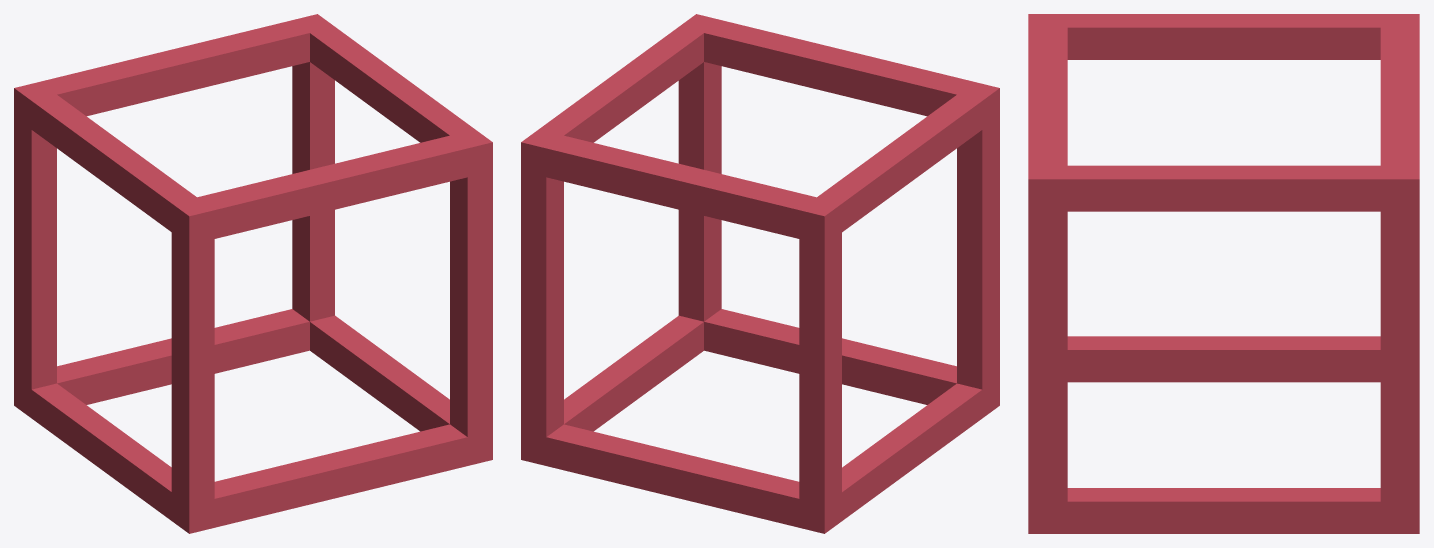
File: cubo-arestas.glb
3 renders of one model, left to right at view 1: azimuth 30°, elevation 25°; view 2: azimuth 150°, elevation 25°; view 3: azimuth 270°, elevation 25°, orthographic. The views are drawn at different scales.
Visible parts, largest first — view 1: Mesh_Mesh_head_geo.001_lambert2SG.001; view 2: Mesh_Mesh_head_geo.001_lambert2SG.001; view 3: Mesh_Mesh_head_geo.001_lambert2SG.001.
Part boxes in pixels (left/top/right/bottom): Mesh_Mesh_head_geo.001_lambert2SG.001: left=14, top=14, right=492, bottom=533; Mesh_Mesh_head_geo.001_lambert2SG.001: left=521, top=14, right=999, bottom=533; Mesh_Mesh_head_geo.001_lambert2SG.001: left=1028, top=14, right=1419, bottom=533.
Size of the model in its own units: 10 by 10 by 10.
